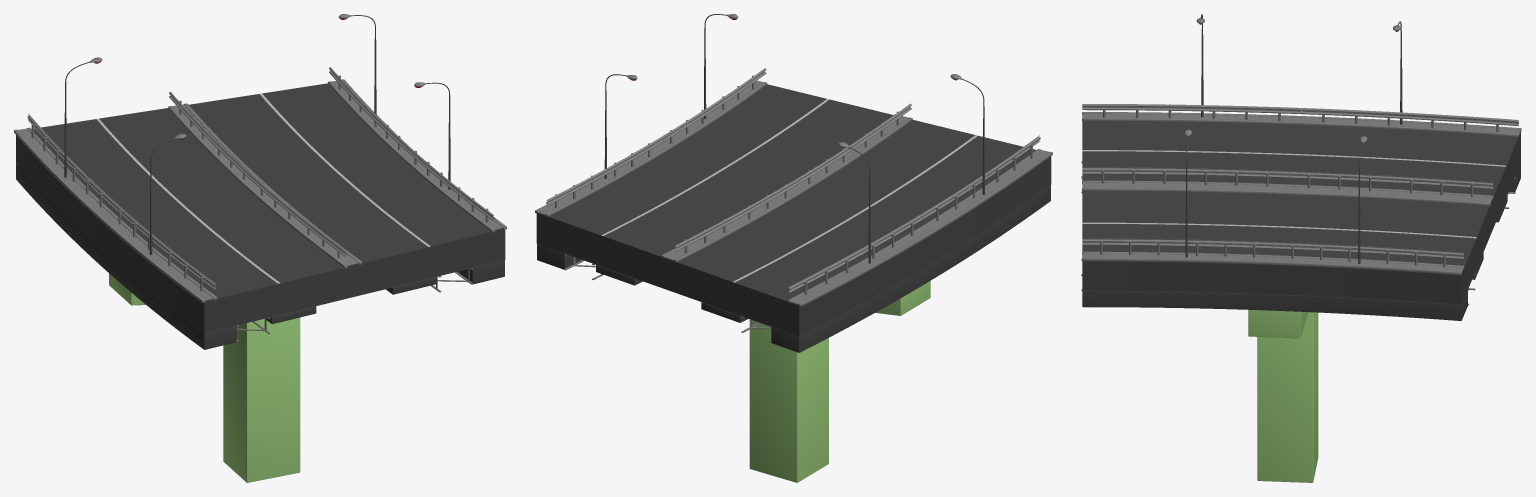
File: SM_highway_platform_curve_5.fbx
3 views of the same model, side by side, from view 1: azimuth 30°, elevation 25°; view 2: azimuth 150°, elevation 25°; view 3: azimuth 270°, elevation 25° (orthographic).
Parts seen in each view (by area): view 1: Object1284851; view 2: Object1284851; view 3: Object1284851.
Part boxes in pixels (x1,y1,x2,y2): Object1284851: [14, 14, 506, 482]; Object1284851: [535, 14, 1052, 482]; Object1284851: [1081, 14, 1521, 482].
Size of the model in its own units: 988 by 1118 by 1142.
